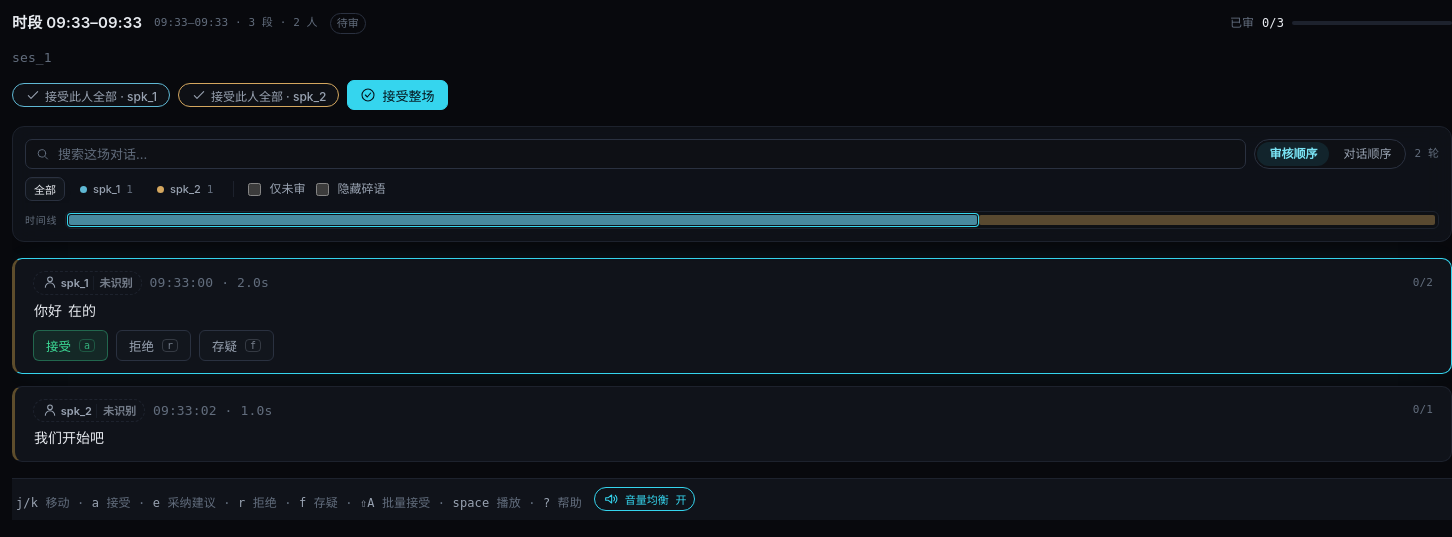
Test: TranscriptReviewPanel › filters turns by speaker from the conversation navigator
This screenshot has width=1452, height=537.
Click the button "spk_2 1" at (185, 189), box [148,177,223,201]
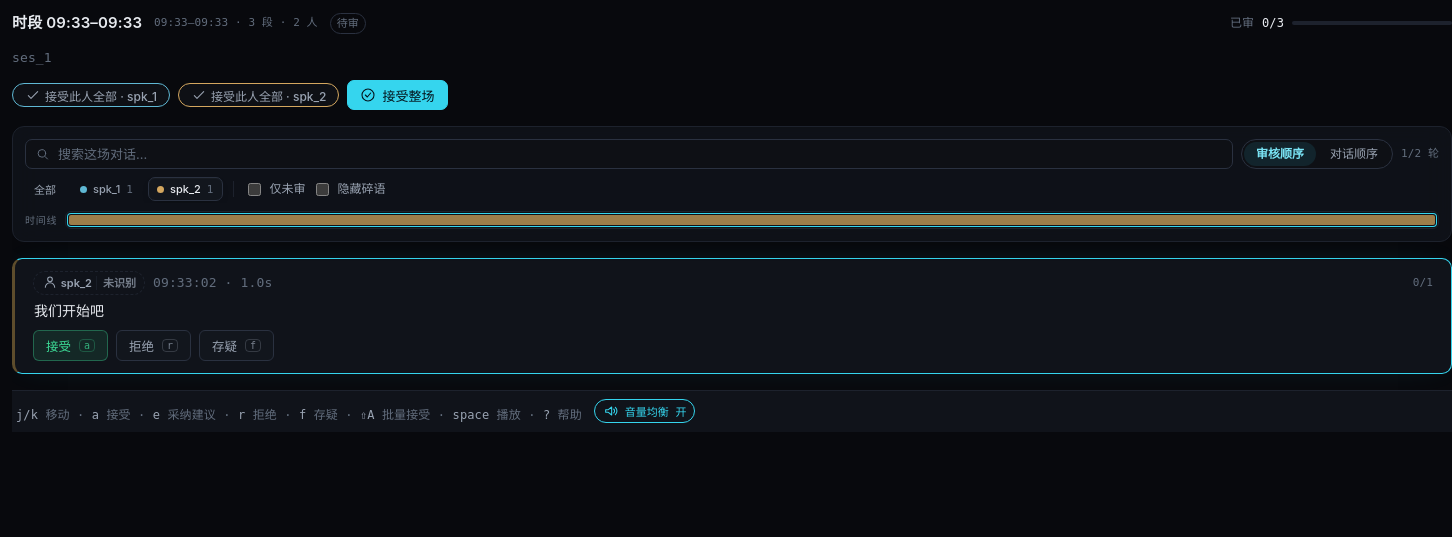
Expected: the button "我们开始吧" is shown, [33,302,105,318]
Result: the button "你好" is gone
